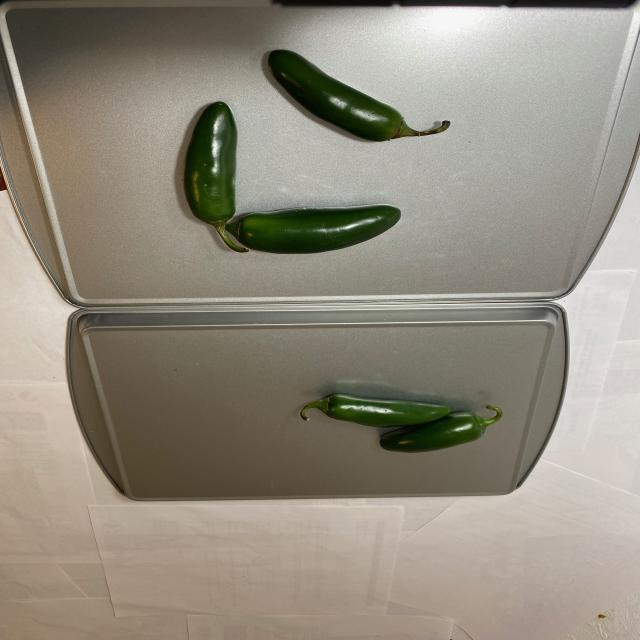chilli: (149, 43, 462, 258), (287, 381, 510, 456)
